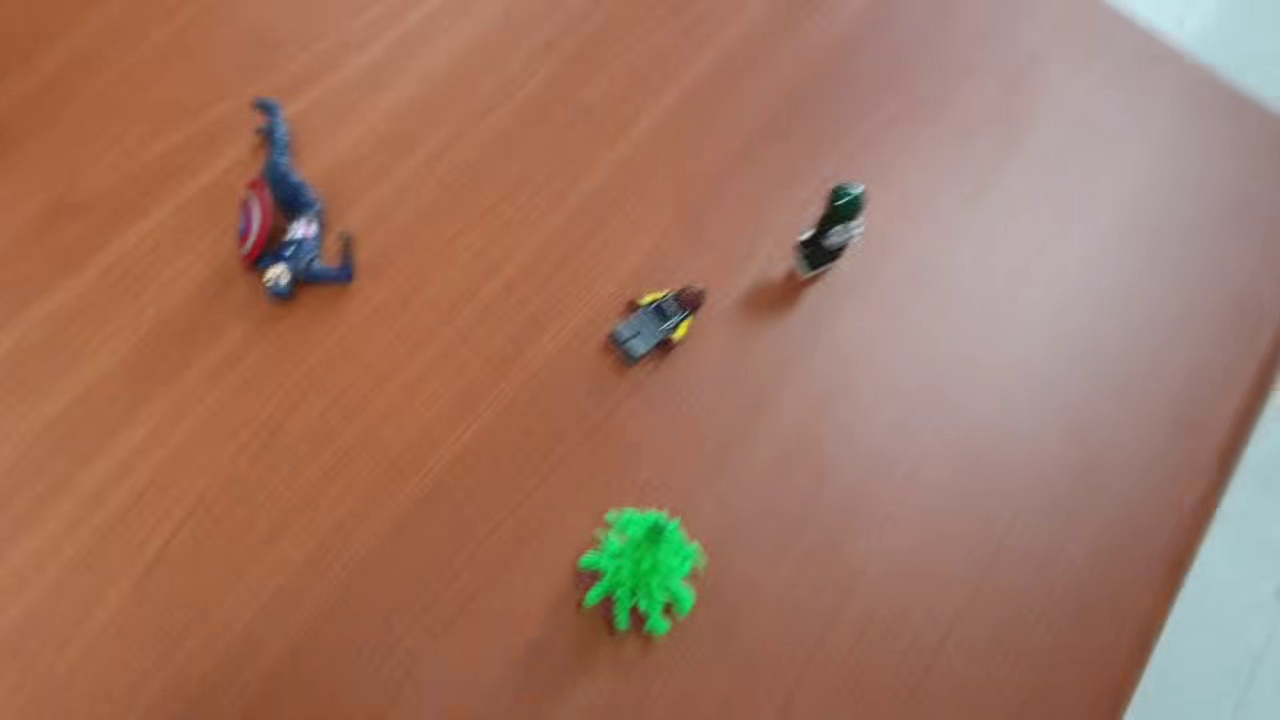people: (232, 94, 357, 302), (787, 177, 871, 289), (606, 287, 706, 362)
tree: (569, 502, 715, 640)
